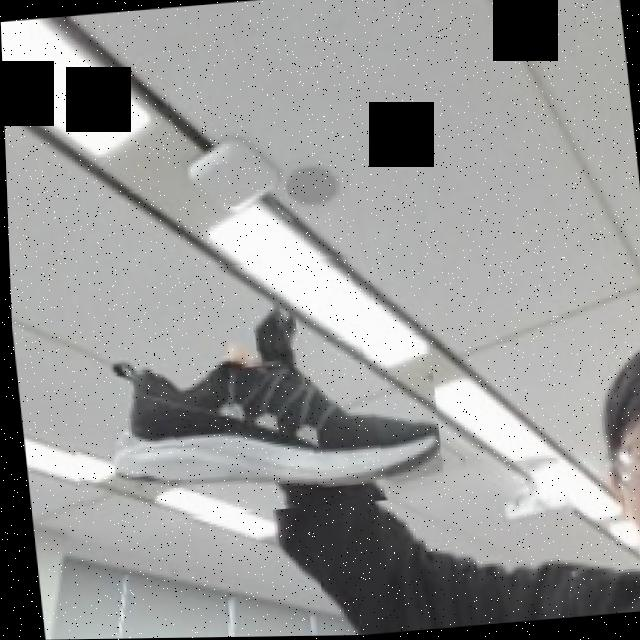shoe: (44, 248, 442, 527)
